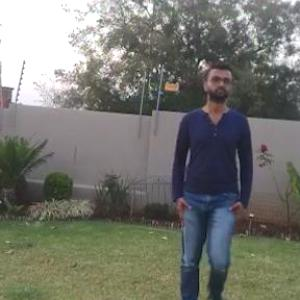follow: (163, 61, 253, 299)
